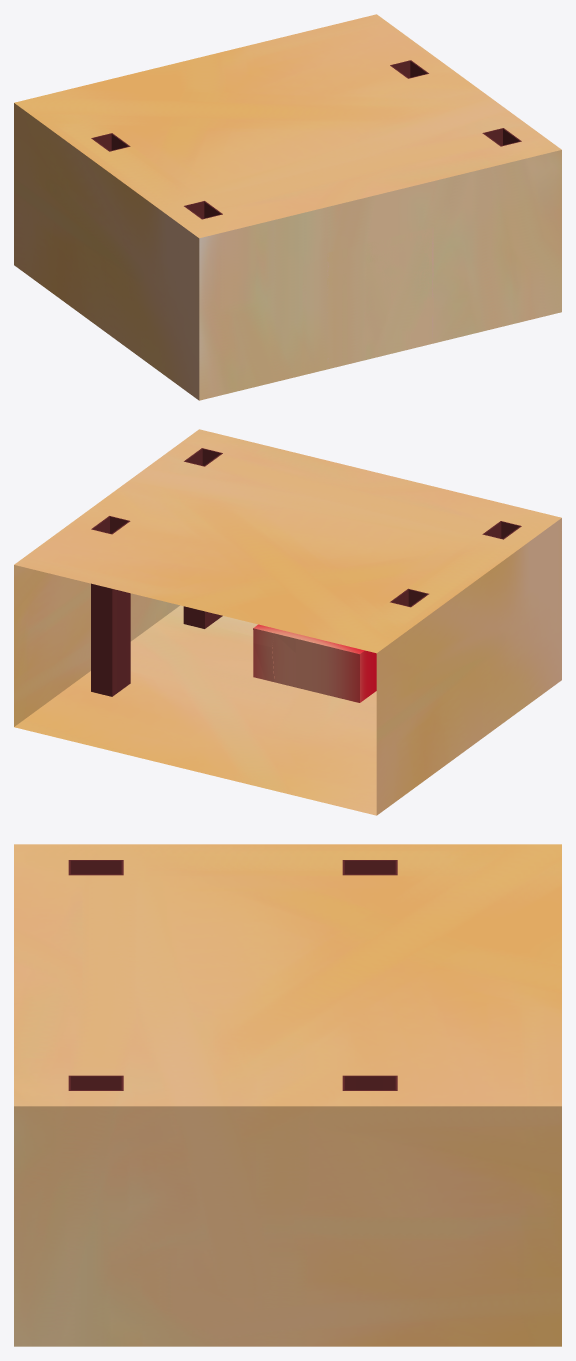
Rendered from court.fbx.
The picture shows the model from 3 angles, top to bottom: view 1: azimuth 30°, elevation 25°; view 2: azimuth 150°, elevation 25°; view 3: azimuth 270°, elevation 25°; orthographic projection. The views are drawn at different scales.
Visible parts, largest first — view 1: Cube, Cube.002; view 2: Cube, Cube.001, Cube.002; view 3: Cube, Cube.002.
Part boxes in pixels (x1,y1,x2,y2): Cube: (14,14,561,400); Cube.002: (91,60,521,219); Cube: (14,429,561,815); Cube.001: (253,624,376,702); Cube.002: (91,448,521,696); Cube: (14,844,561,1346); Cube.002: (68,860,397,1090).
Size of the model in its own units: 1426 by 612 by 1261.
